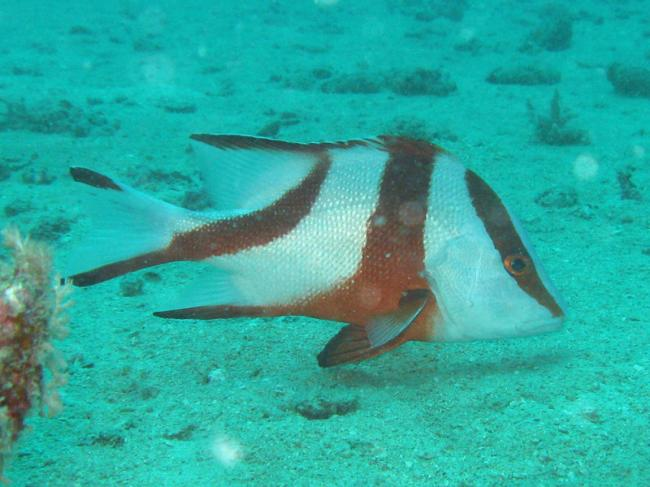fish: (68, 134, 567, 369)
